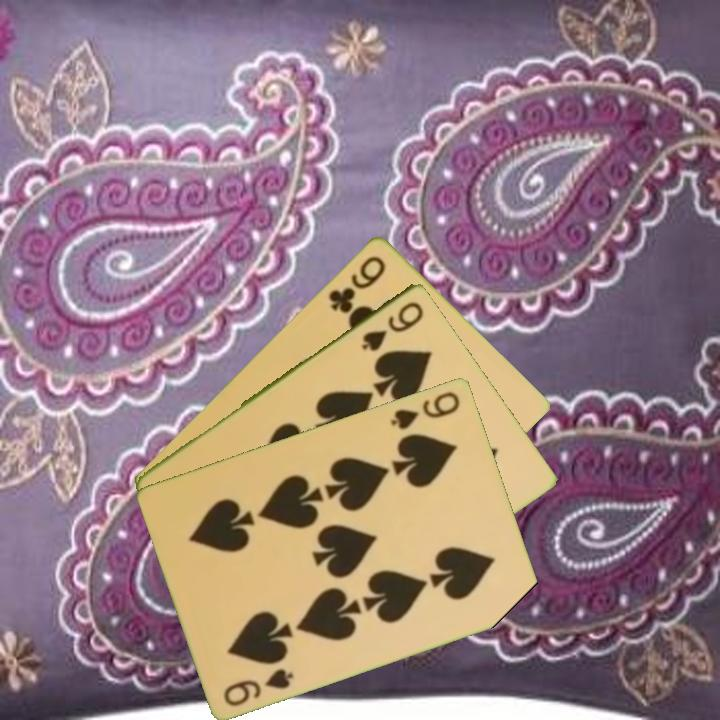9c: (325, 251, 389, 316)
9s: (358, 297, 427, 354), (220, 664, 297, 709), (387, 387, 463, 432)
